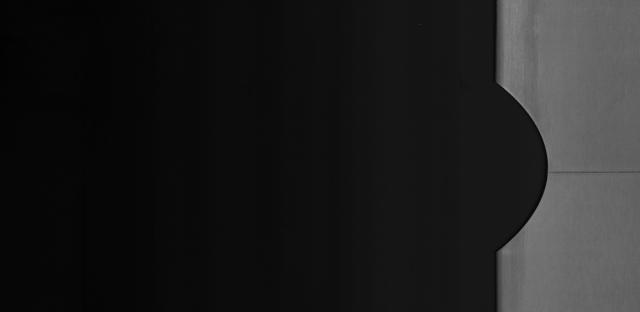crescent_gap: (466, 73, 557, 259)
welding_line: (530, 157, 638, 182)
